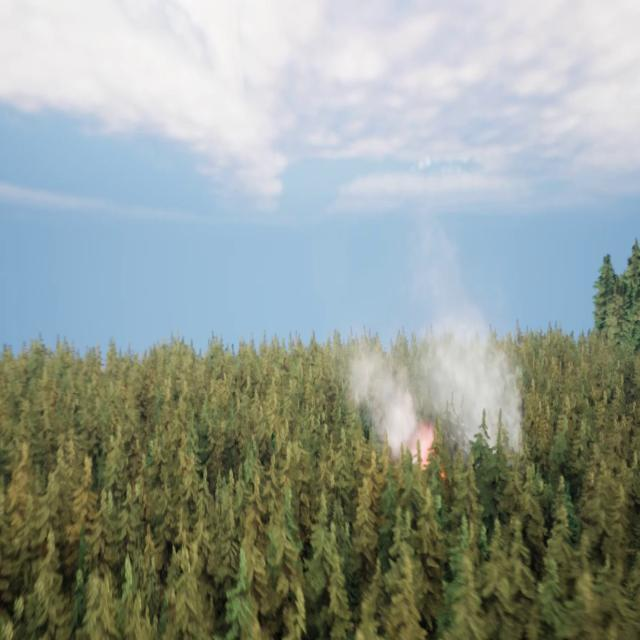fire: (406, 421, 438, 472)
smoke: (345, 200, 527, 469)
